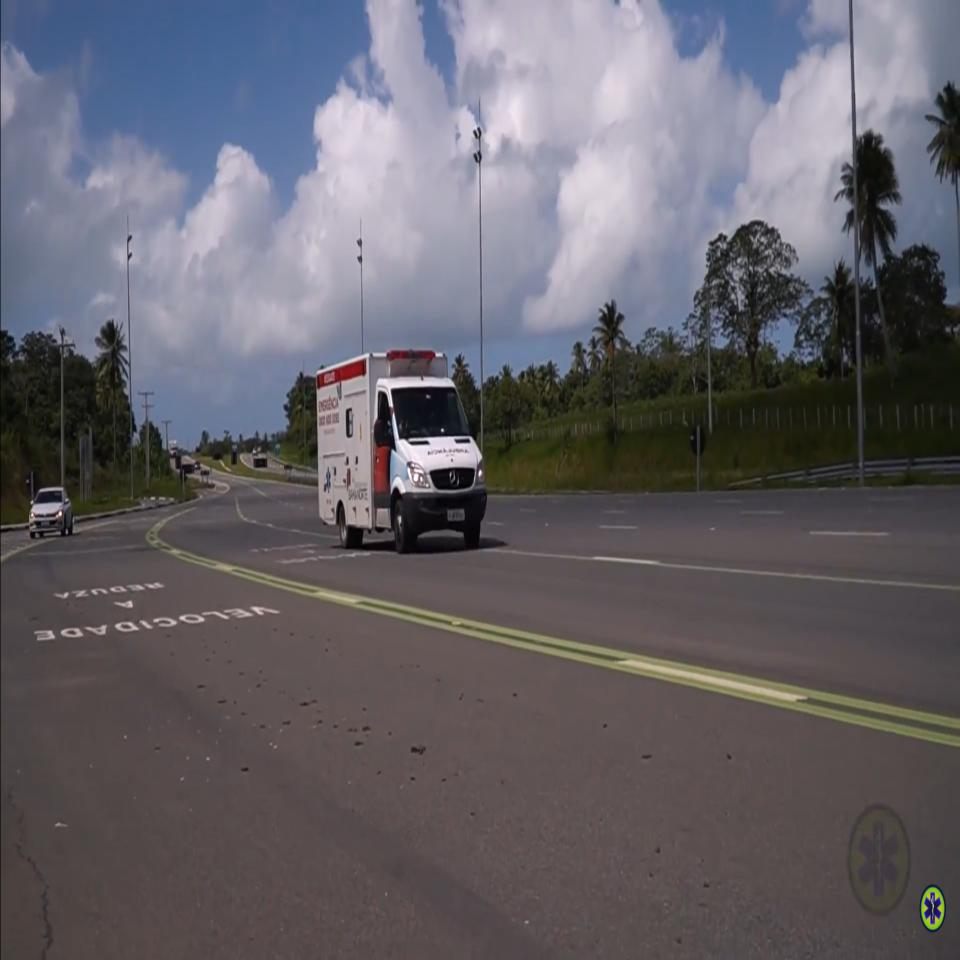bombeiro: (315, 346, 489, 554)
